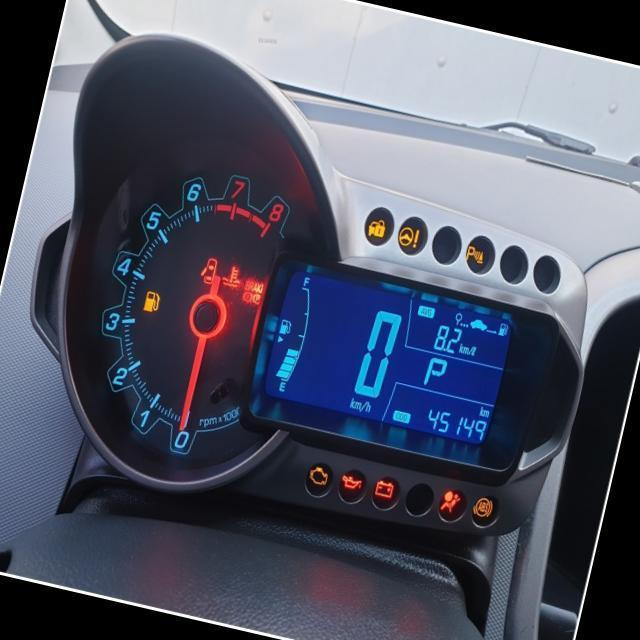Doors: (197, 254, 217, 284)
Engine cooling system: (219, 262, 243, 288)
Low fuel level: (142, 288, 160, 314)
